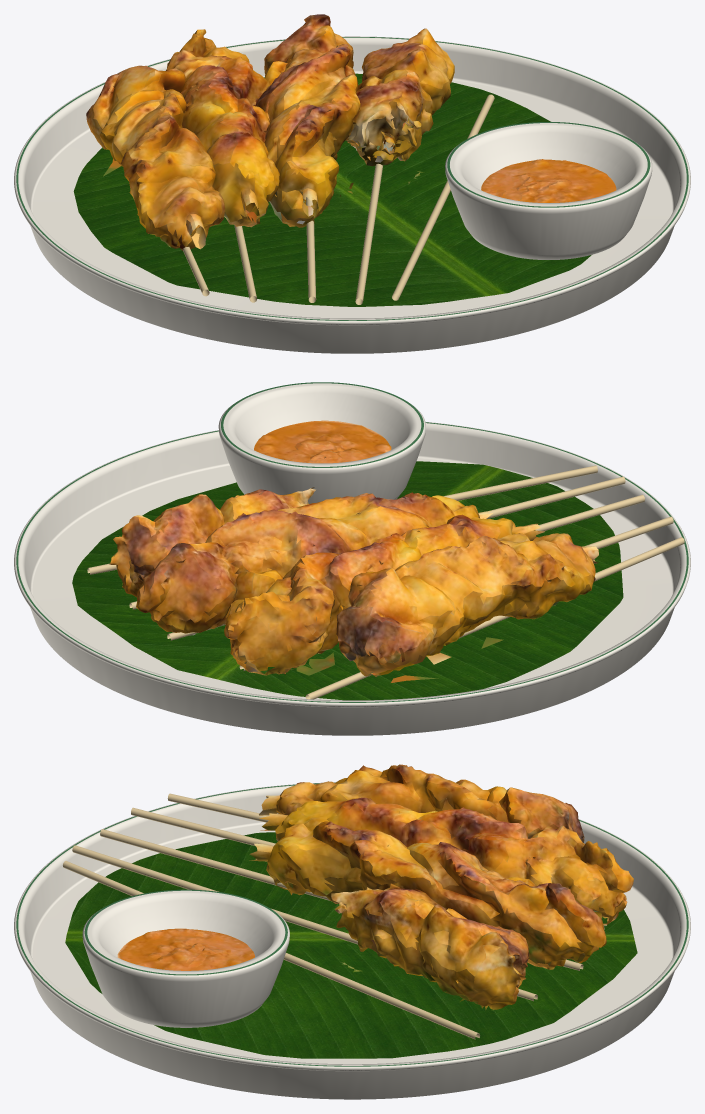
The model's file is satay-1.glb.
3 renders of one model, top to bottom at view 1: azimuth 30°, elevation 25°; view 2: azimuth 150°, elevation 25°; view 3: azimuth 270°, elevation 25°, orthographic.
Parts seen in each view (by area): view 1: support/regular-closed-plate, food/independent-stage-1, canonical/continuous-leaf-repair, support/regular-satay-cup, edible/local-sauce-level-1, canonical/skewer-core-5, canonical/skewer-core-4, canonical/skewer-core-3, canonical/skewer-core-2; view 2: food/independent-stage-1, support/regular-closed-plate, canonical/continuous-leaf-repair, support/regular-satay-cup, edible/local-sauce-level-1, canonical/skewer-core-1, canonical/skewer-core-5, canonical/skewer-core-4, canonical/skewer-core-3, canonical/skewer-core-2; view 3: food/independent-stage-1, support/regular-closed-plate, canonical/continuous-leaf-repair, support/regular-satay-cup, edible/local-sauce-level-1, canonical/skewer-core-5, canonical/skewer-core-4, canonical/skewer-core-3, canonical/skewer-core-2, canonical/skewer-core-1.
Part boxes in pixels (box(x1,y1,x2,y2)): support/regular-closed-plate: box(14, 36, 690, 353); food/independent-stage-1: box(86, 14, 454, 250); canonical/continuous-leaf-repair: box(73, 73, 591, 306); support/regular-satay-cup: box(445, 122, 652, 259); edible/local-sauce-level-1: box(481, 159, 616, 202); canonical/skewer-core-5: box(392, 94, 494, 300); canonical/skewer-core-4: box(355, 141, 383, 304); canonical/skewer-core-3: box(306, 197, 316, 302); canonical/skewer-core-2: box(234, 225, 256, 302); food/independent-stage-1: box(109, 487, 598, 682); support/regular-closed-plate: box(14, 422, 690, 735); canonical/continuous-leaf-repair: box(72, 461, 623, 700); support/regular-satay-cup: box(218, 382, 425, 503); edible/local-sauce-level-1: box(254, 420, 391, 463); canonical/skewer-core-1: box(305, 537, 684, 699); canonical/skewer-core-5: box(87, 465, 597, 574); canonical/skewer-core-4: box(129, 476, 625, 609); canonical/skewer-core-3: box(167, 494, 644, 640); canonical/skewer-core-2: box(239, 516, 673, 670); food/independent-stage-1: box(249, 764, 633, 1010); support/regular-closed-plate: box(14, 782, 690, 1099); canonical/continuous-leaf-repair: box(65, 832, 637, 1058); support/regular-satay-cup: box(82, 889, 289, 1027); edible/local-sauce-level-1: box(117, 928, 254, 970); canonical/skewer-core-5: box(63, 861, 480, 1039); canonical/skewer-core-4: box(72, 845, 537, 1001); canonical/skewer-core-3: box(100, 829, 583, 970); canonical/skewer-core-2: box(131, 807, 604, 929); canonical/skewer-core-1: box(167, 793, 269, 822).
Bounding box in the file's own units: 2.88 × 0.5865 × 2.88.
Materials: 6 (3 with a texture image).
